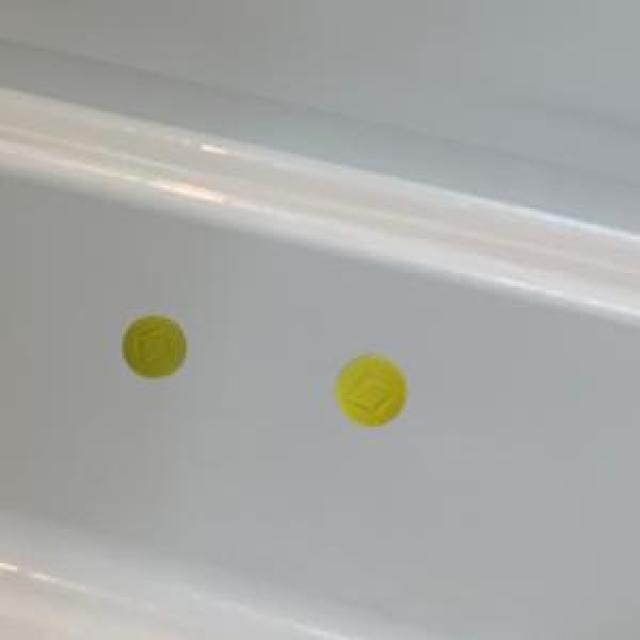Decolgen: (329, 341, 419, 437), (112, 309, 197, 388)
